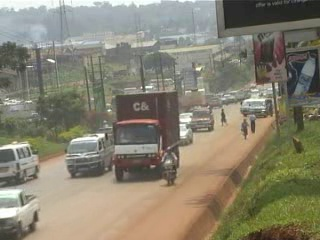Car: (189, 104, 214, 134), (177, 121, 197, 146), (176, 110, 197, 128)
Motorcycle: (159, 145, 179, 187)
